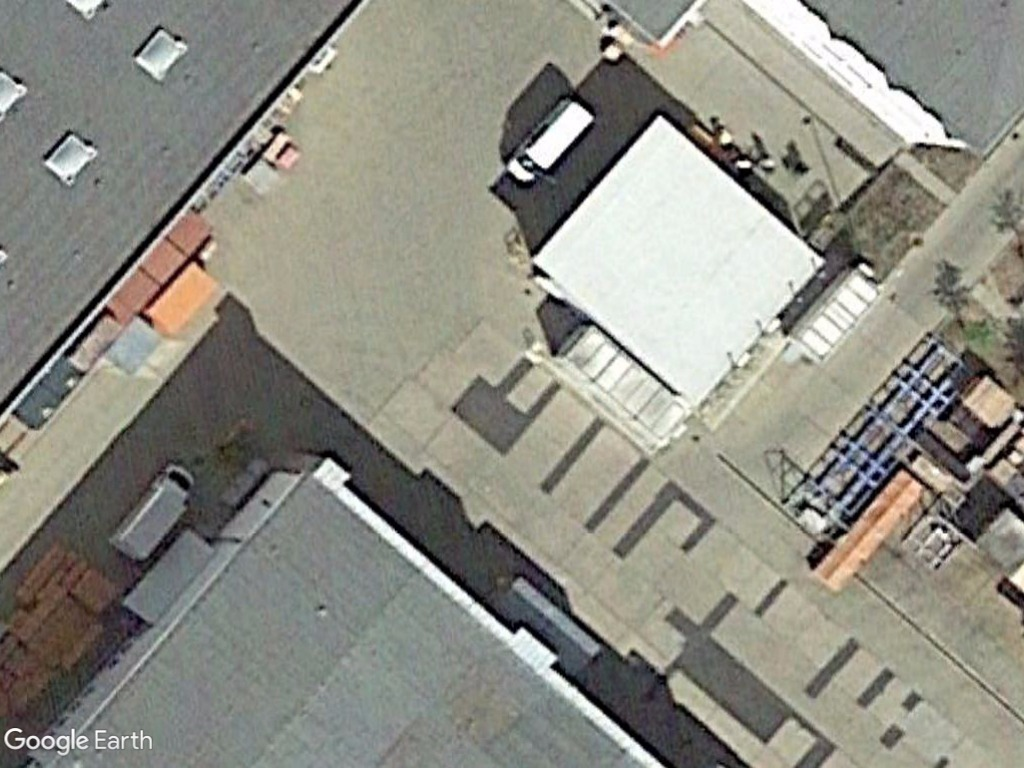van: (494, 90, 599, 194), (104, 455, 202, 566)
